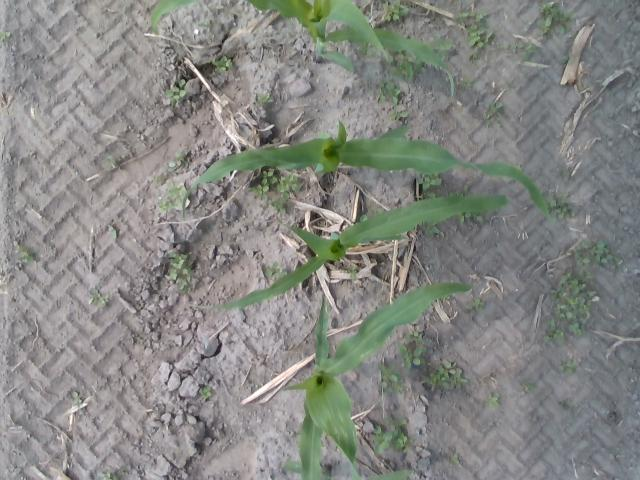Maize: (182, 120, 554, 222), (281, 282, 471, 480), (190, 194, 508, 308), (150, 0, 454, 95), (279, 462, 412, 480)
Weeds: (552, 270, 600, 320), (428, 361, 469, 391), (582, 240, 624, 265), (166, 252, 192, 289), (376, 78, 401, 106), (374, 426, 398, 452), (540, 1, 572, 20), (278, 174, 302, 197), (468, 25, 492, 48), (382, 1, 408, 22), (549, 196, 572, 219), (401, 344, 422, 368), (392, 58, 413, 82), (164, 79, 187, 100), (429, 31, 452, 50), (266, 262, 288, 280), (380, 366, 398, 388), (556, 12, 575, 32), (89, 288, 110, 306), (16, 244, 34, 263), (418, 176, 442, 190), (156, 197, 174, 215), (250, 184, 270, 200), (518, 42, 534, 60), (168, 151, 185, 167), (212, 56, 230, 70), (538, 18, 553, 34), (271, 198, 288, 212), (166, 184, 183, 198), (470, 9, 488, 22), (260, 170, 276, 184), (404, 331, 424, 342), (100, 469, 120, 480), (574, 253, 590, 266), (152, 173, 166, 187), (560, 360, 574, 374), (521, 384, 536, 397), (486, 394, 501, 407), (570, 324, 586, 336), (386, 417, 409, 425), (258, 92, 274, 103), (199, 387, 212, 399), (394, 380, 406, 393), (398, 434, 409, 448), (108, 226, 119, 240), (472, 298, 484, 310), (392, 110, 408, 119), (106, 156, 116, 170), (490, 103, 504, 113), (455, 12, 469, 22), (554, 330, 565, 342), (456, 184, 468, 195), (72, 391, 82, 404), (420, 344, 426, 365), (347, 268, 357, 280), (459, 213, 471, 223), (562, 52, 572, 64), (460, 78, 472, 88), (200, 20, 212, 30), (0, 30, 11, 40), (544, 332, 554, 342), (430, 223, 439, 234), (504, 42, 512, 54), (472, 214, 483, 222), (548, 319, 556, 329), (470, 54, 478, 64), (483, 114, 493, 121), (452, 453, 459, 462), (423, 227, 432, 232)
